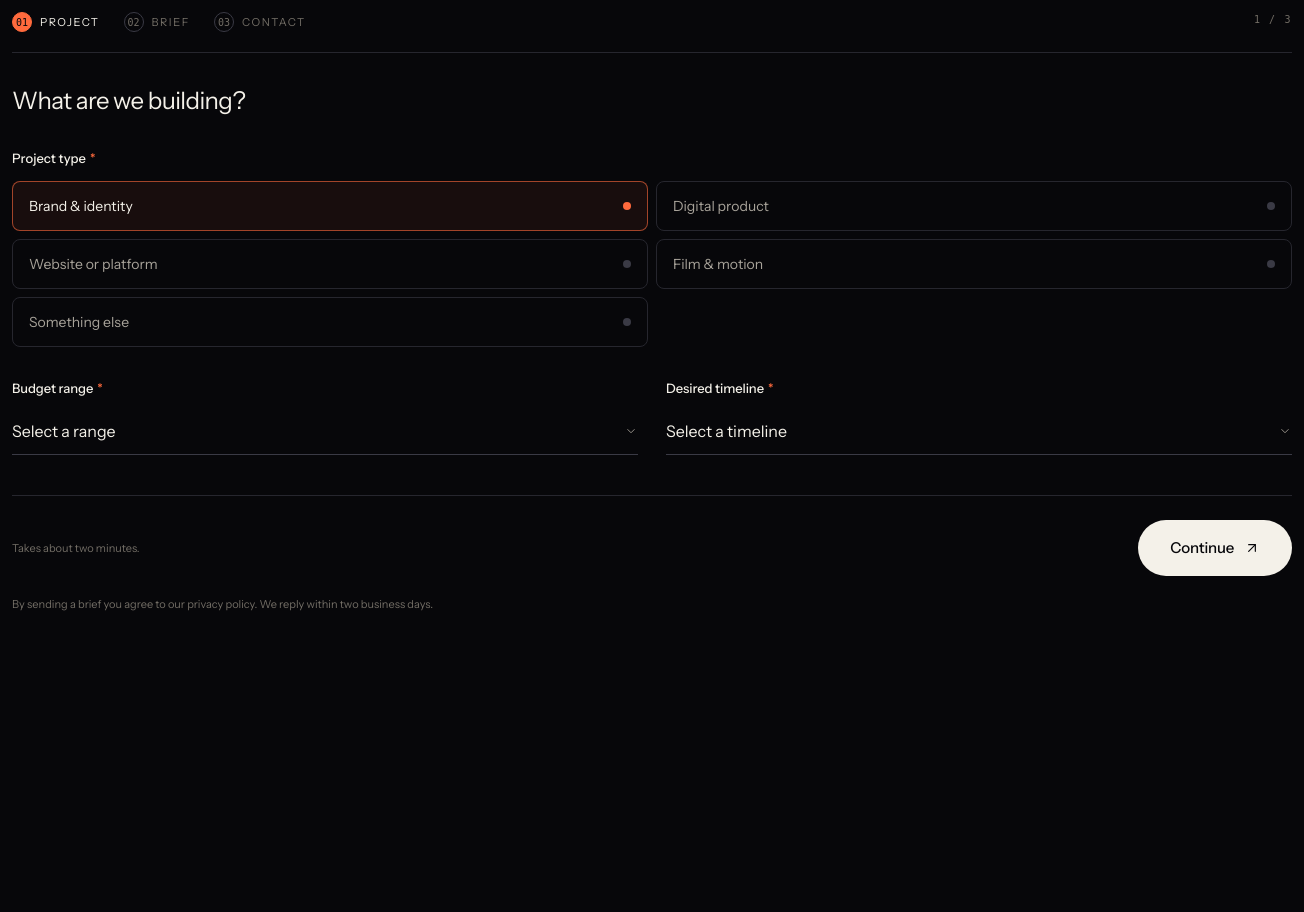
ProjectInquiryForm › validates the brief before allowing contact details
Select "$40,000 – $80,000" in the dropdown labelled "Budget range*" at (325, 432), box [12,408,638,455]
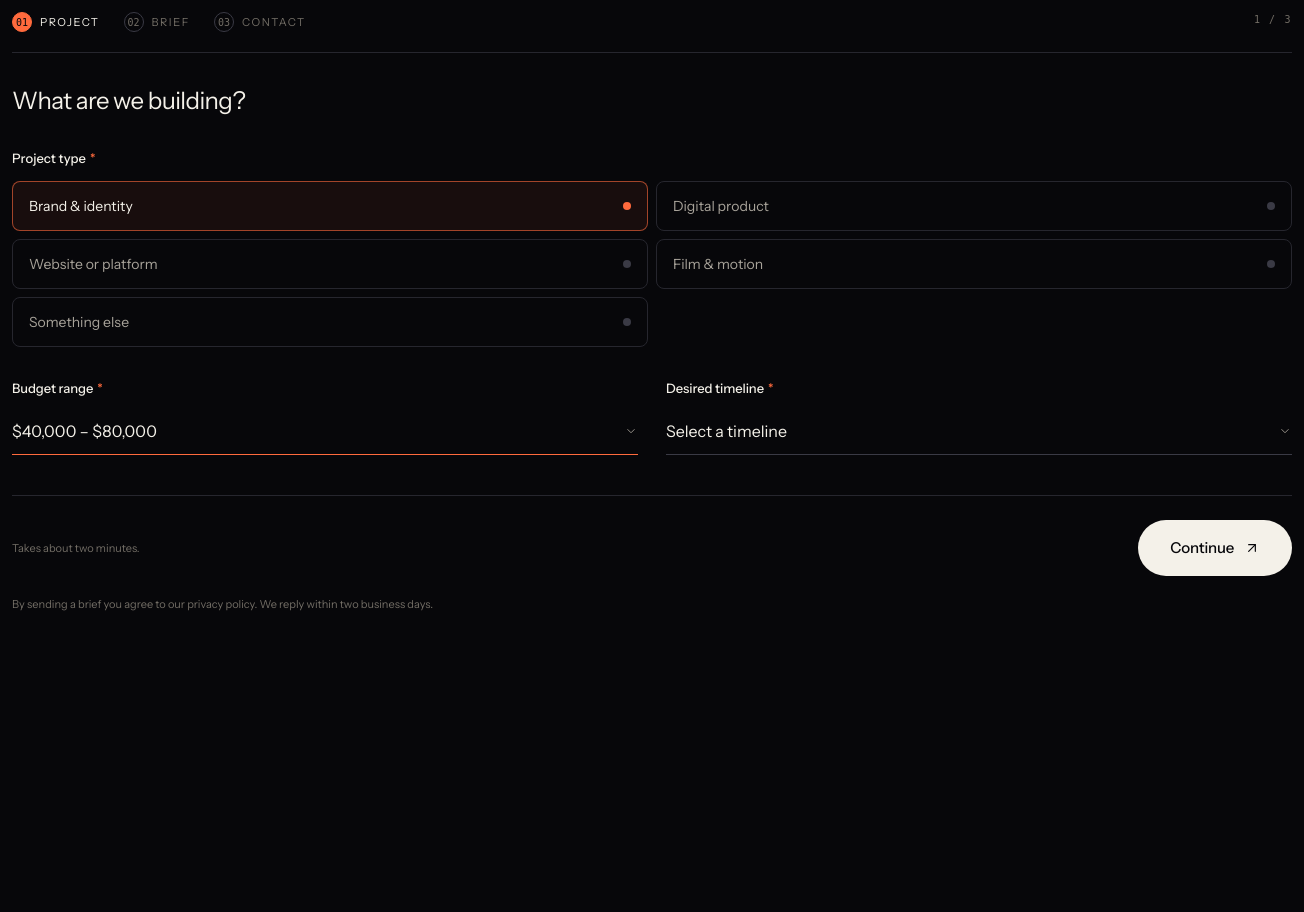
Select "Within 3–4 months" in the dropdown labelled "Desired timeline*" at (979, 432), box [666,408,1292,455]
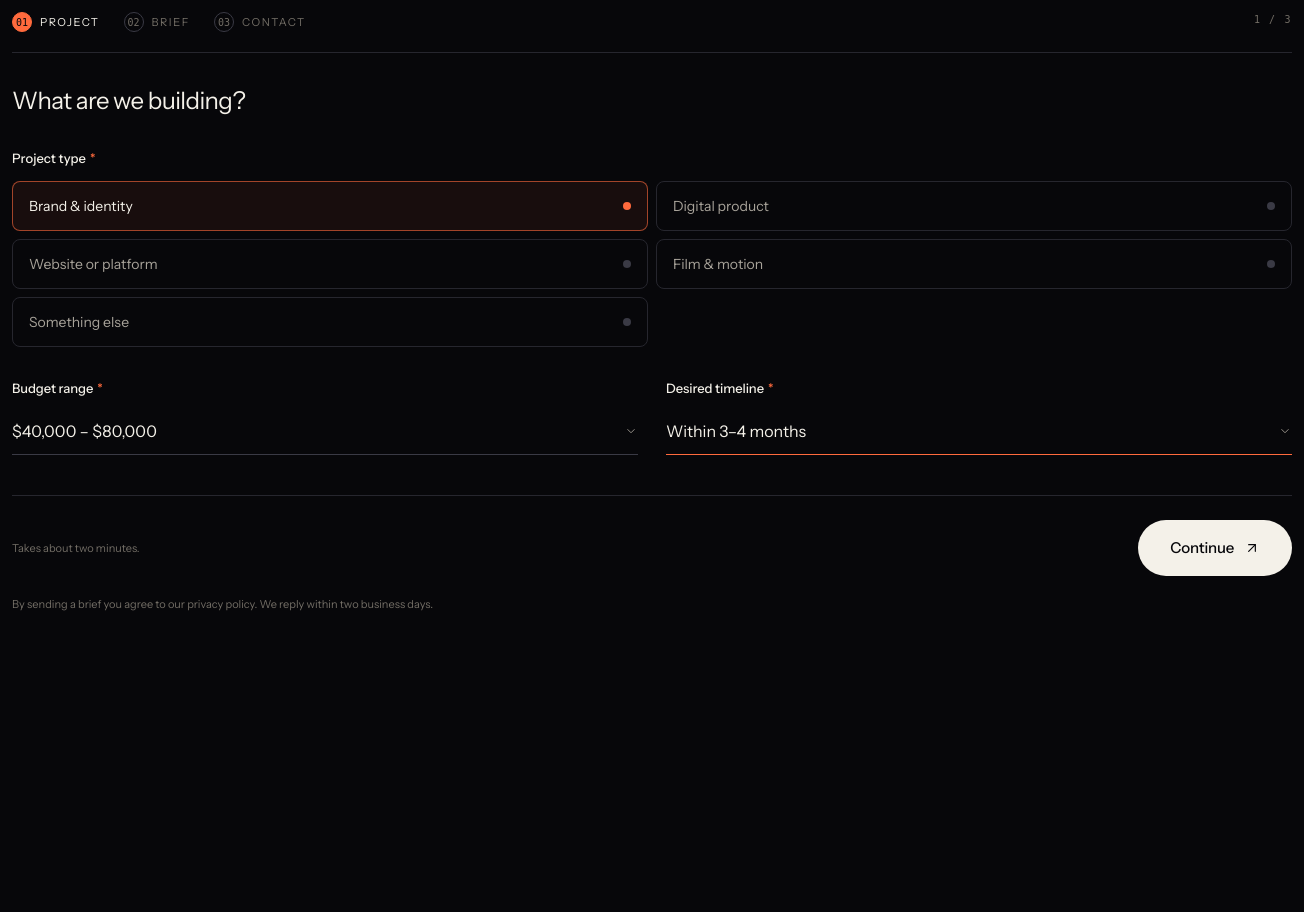
Click the button "Continue".
click(1215, 548)  # box [1138,520,1292,576]
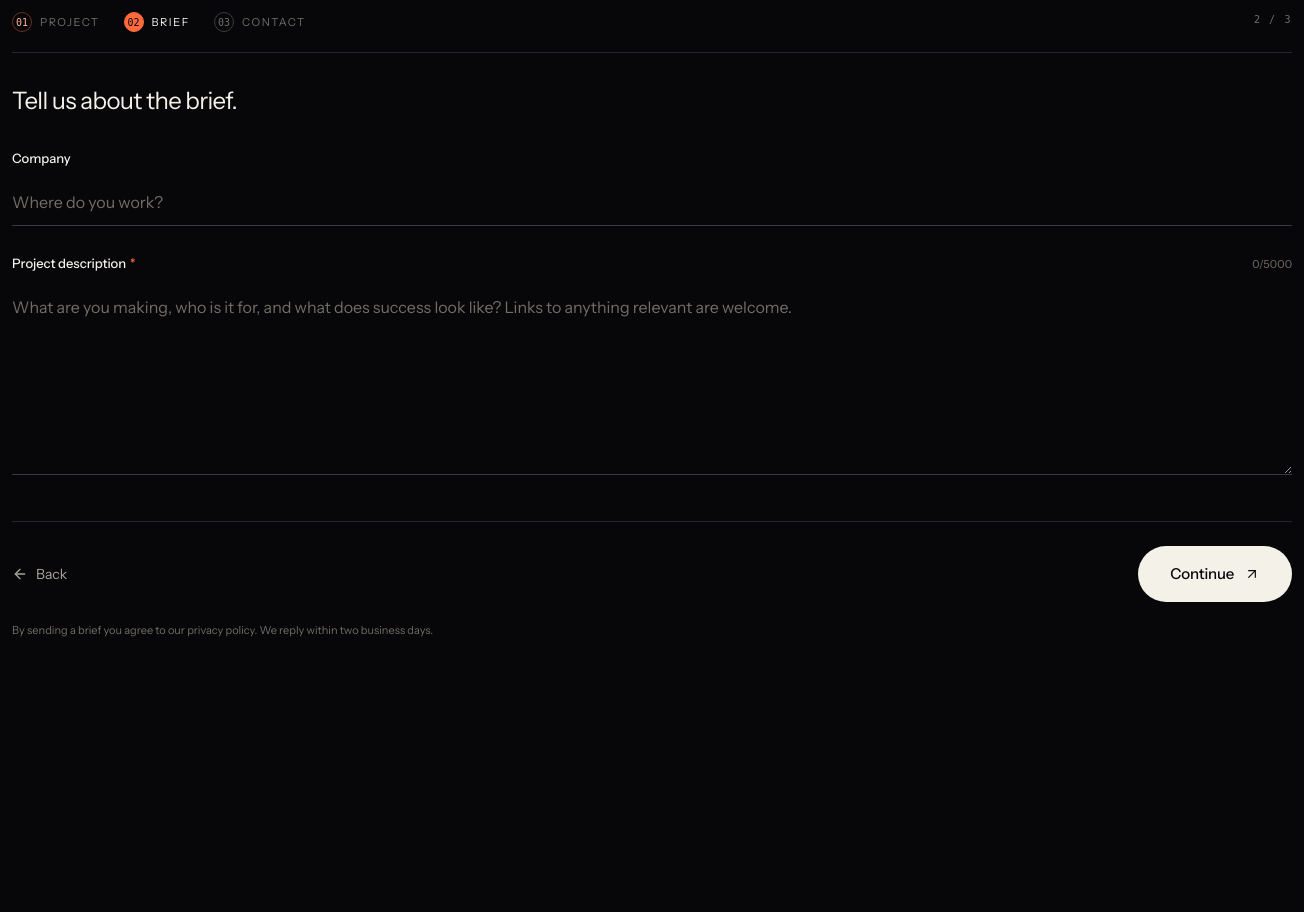
Result: the heading "Tell us about the brief." is shown at [12,86,237,115]
Click the button "Continue".
click(1215, 574)  # box [1138,546,1292,602]
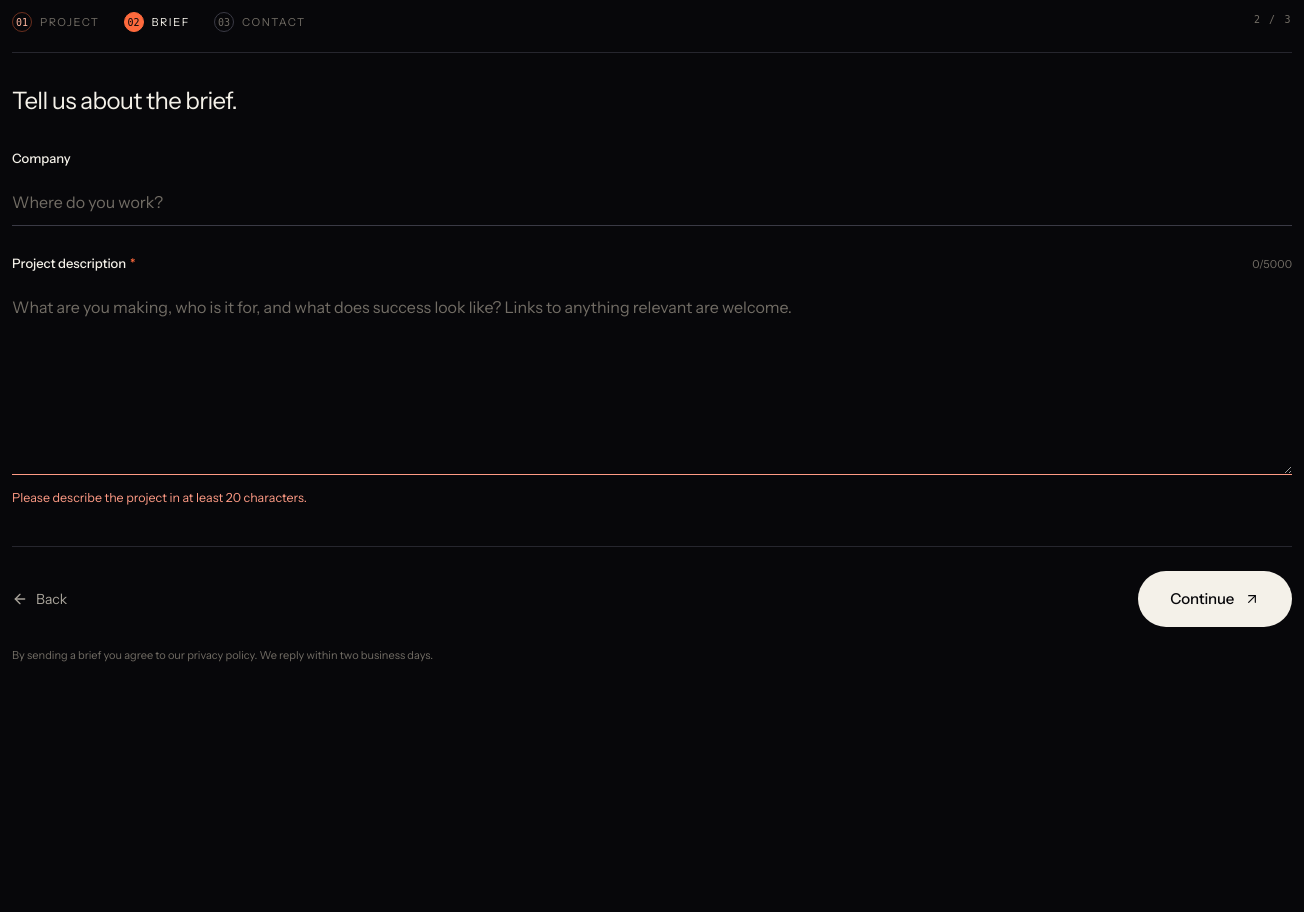
Result: the text "Please describe the project in at least 20 characters." is shown at [12,490,307,505]
